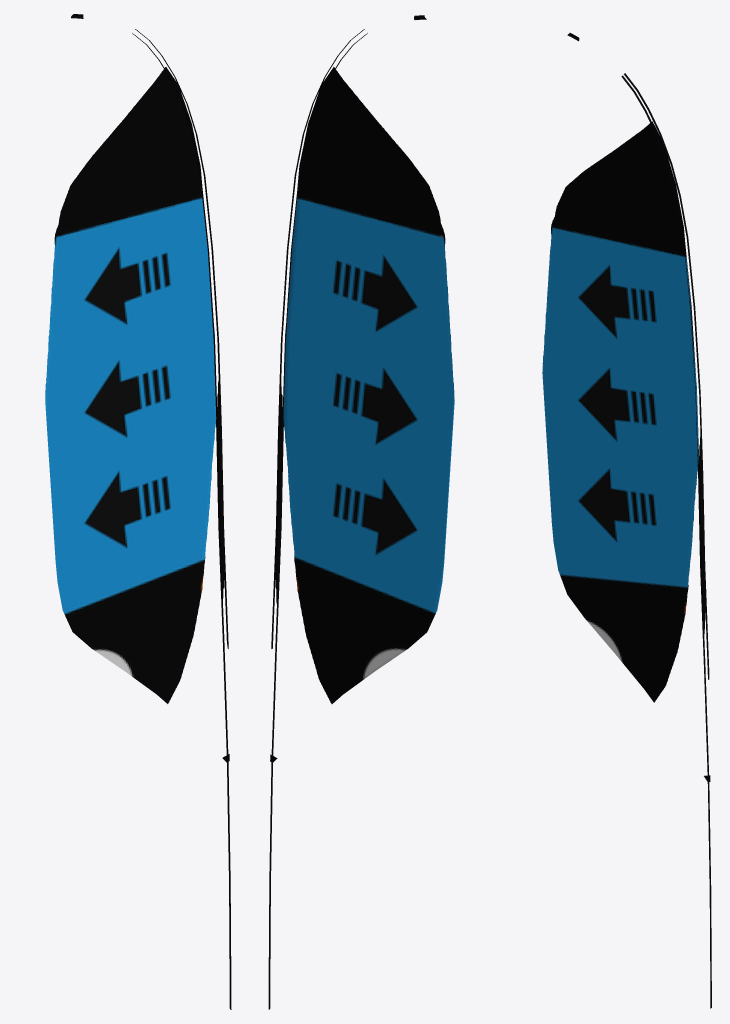
File: defaulttbsflagblue.glb
3 renders of one model, left to right at view 1: azimuth 30°, elevation 25°; view 2: azimuth 150°, elevation 25°; view 3: azimuth 330°, elevation 25°, orthographic. The views are drawn at different scales.
Visible parts, largest first — view 1: DefaultTBSFlagBlue; view 2: DefaultTBSFlagBlue; view 3: DefaultTBSFlagBlue.
Boxes of the visible parts, x1,y1,x2,y2 form: DefaultTBSFlagBlue: (45, 14, 231, 1009); DefaultTBSFlagBlue: (268, 15, 454, 1009); DefaultTBSFlagBlue: (542, 33, 711, 1008).
Size of the model in its own units: 0.8816 by 3.99 by 0.019.
Materials: 1 (1 with a texture image).
